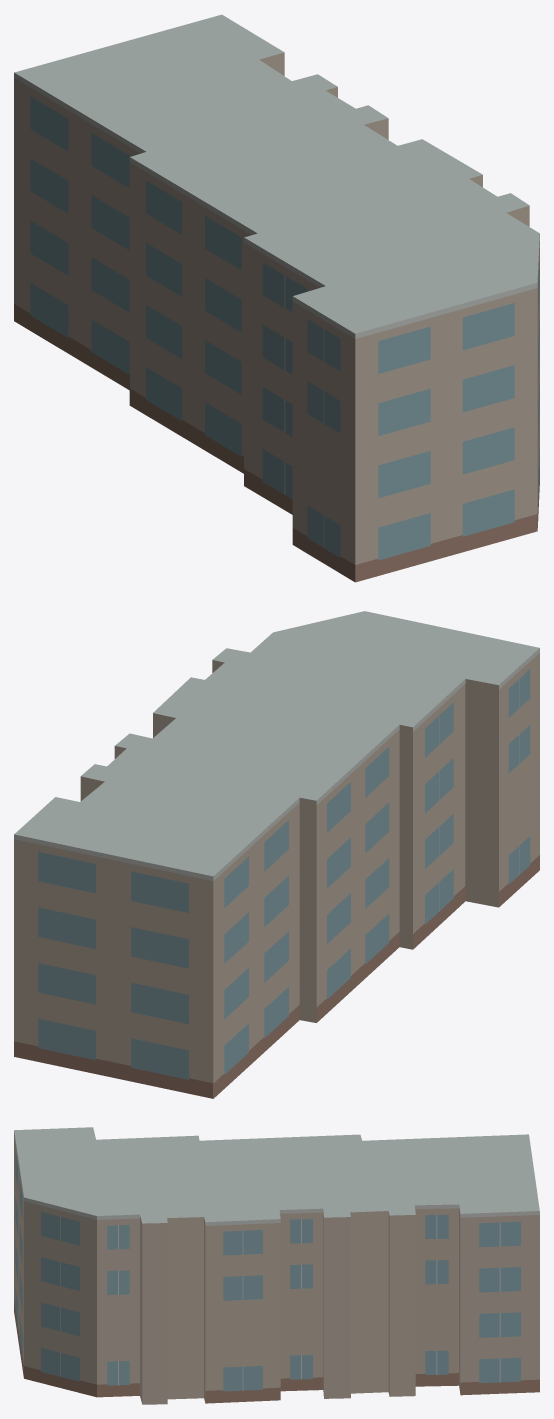
File: survey-upis-32493932.glb
3 renders of one model, top to bottom at view 1: azimuth 30°, elevation 25°; view 2: azimuth 150°, elevation 25°; view 3: azimuth 270°, elevation 25°, orthographic. The views are drawn at different scales.
Visible parts, largest first — view 1: survey-upis-32493932.tmp; view 2: survey-upis-32493932.tmp; view 3: survey-upis-32493932.tmp.
Part boxes in pixels (x1=…): survey-upis-32493932.tmp: x1=14, y1=14, x2=539, y2=582; survey-upis-32493932.tmp: x1=14, y1=611, x2=539, y2=1098; survey-upis-32493932.tmp: x1=14, y1=1127, x2=539, y2=1404.
Bounding box in the file's own units: 13.11 × 11.5 × 30.24.
